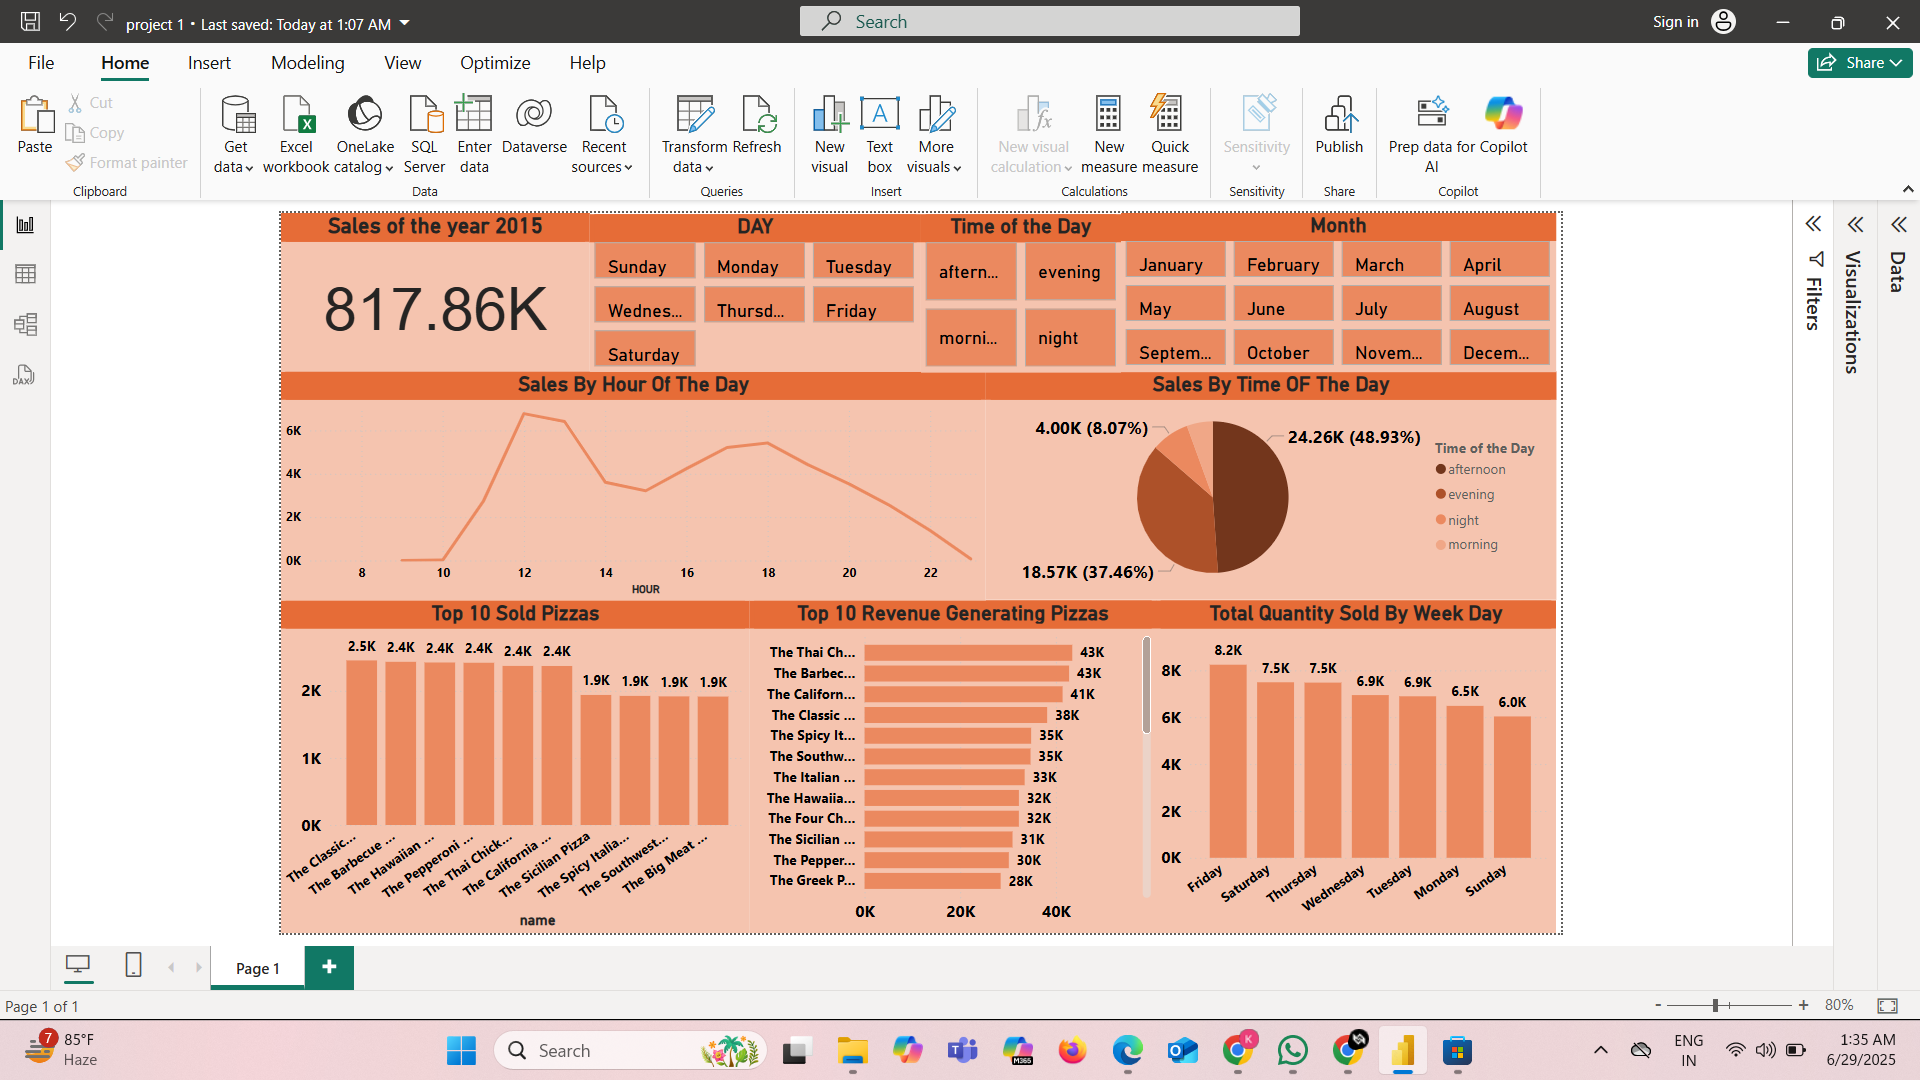

This screenshot's page, from the dashboard's own definition file:
{"tool":"powerbi","page":{"name":"Page 1","canvas":[1280,720],"ordinal":0},"visuals":[{"type":"card","title":"Sales of the year 2015","fields":{"Values":["pizza_types.total_sales"]},"box":[0,0,308.8,158.8],"z":0},{"type":"columnChart","title":"Top 10 Sold Pizzas","fields":{"Category":["pizza_types.name"],"Y":["Sum(order_details.quantity)"]},"box":[0,387.5,468.8,332.5],"z":1000},{"type":"barChart","title":"Top 10 Revenue Generating  Pizzas","fields":{"Category":["pizza_types.name"],"Y":["pizza_types.Pizza_Revenue"]},"box":[468.8,387.5,406.2,332.5],"z":2000},{"type":"lineChart","title":"Sales By Hour Of The Day","fields":{"Category":["orders.Hour"],"Y":["Sum(order_details.quantity)"]},"box":[0,158.8,705,228.8],"z":3000},{"type":"columnChart","title":"Total Quantity Sold By Week Day","fields":{"Category":["orders.Day Name"],"Y":["Sum(order_details.quantity)"]},"box":[875,387.5,400,332.5],"z":4000},{"type":"pieChart","title":"Sales By Time OF The Day","fields":{"Category":["orders.time of the day"],"Y":["Sum(order_details.quantity)"]},"box":[705,158.8,570,228],"z":5000},{"type":"advancedSlicerVisual","title":"DAY","fields":{"Values":["orders.Day Name"]},"box":[308.8,1.2,331.2,157.5],"z":6000},{"type":"advancedSlicerVisual","title":"Time of the Day","fields":{"Values":["orders.time of the day"]},"box":[640,1.2,200,158.8],"z":7000},{"type":"advancedSlicerVisual","title":"Month","fields":{"Values":["orders.month"]},"box":[840,0,435,159],"z":8000}]}

Visuals, with their boxes on the page's 1280x720 design canvas (x1, y1, x2, y2). These are canvas units, not pixel positions in the 1920x1080 screenshot, which may show the page scaled, cropped or inside an application window:
"Sales of the year 2015" card: Rect(0, 0, 309, 159)
"Top 10 Sold Pizzas" columnChart: Rect(0, 388, 469, 720)
"Top 10 Revenue Generating  Pizzas" barChart: Rect(469, 388, 875, 720)
"Sales By Hour Of The Day" lineChart: Rect(0, 159, 705, 388)
"Total Quantity Sold By Week Day" columnChart: Rect(875, 388, 1275, 720)
"Sales By Time OF The Day" pieChart: Rect(705, 159, 1275, 387)
"DAY" advancedSlicerVisual: Rect(309, 1, 640, 159)
"Time of the Day" advancedSlicerVisual: Rect(640, 1, 840, 160)
"Month" advancedSlicerVisual: Rect(840, 0, 1275, 159)
